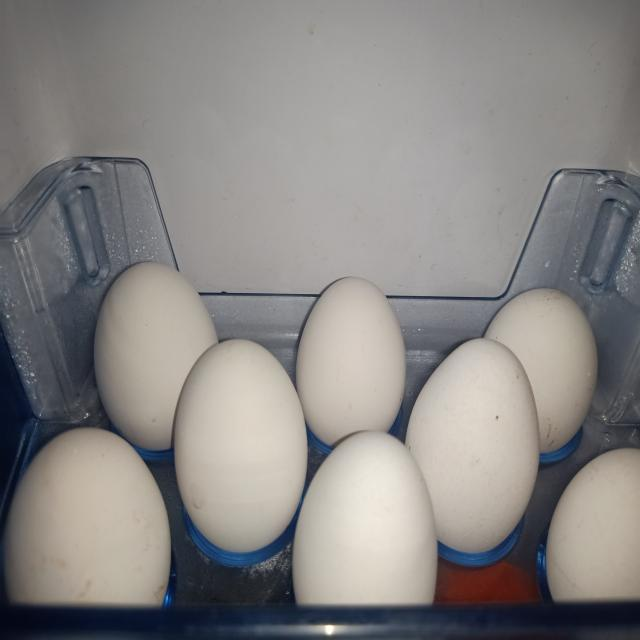Egg: (3, 428, 170, 607), (406, 338, 540, 554), (174, 339, 307, 553), (292, 432, 438, 606), (93, 262, 218, 451), (296, 277, 406, 447), (486, 288, 599, 453), (547, 449, 640, 601)
